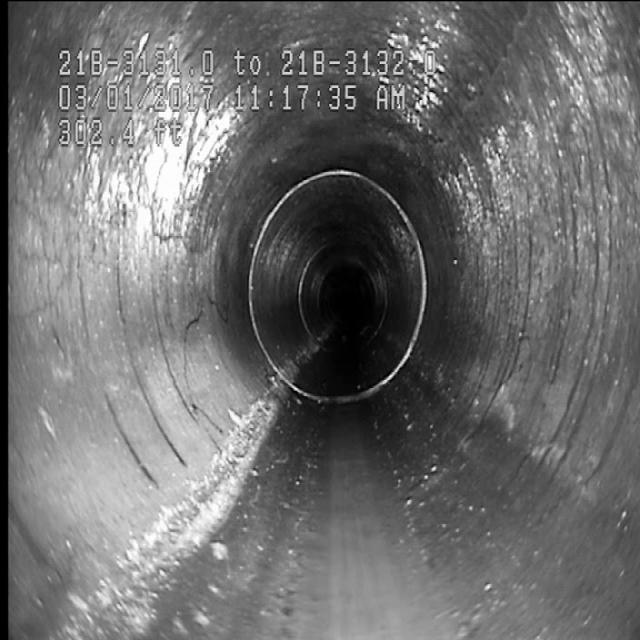Crack: (75, 188, 231, 258), (178, 274, 232, 414)
